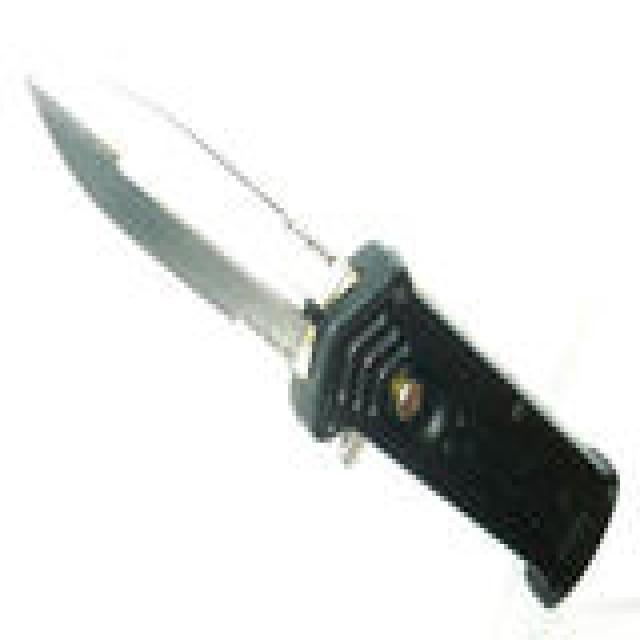Knife: (13, 44, 617, 591)
